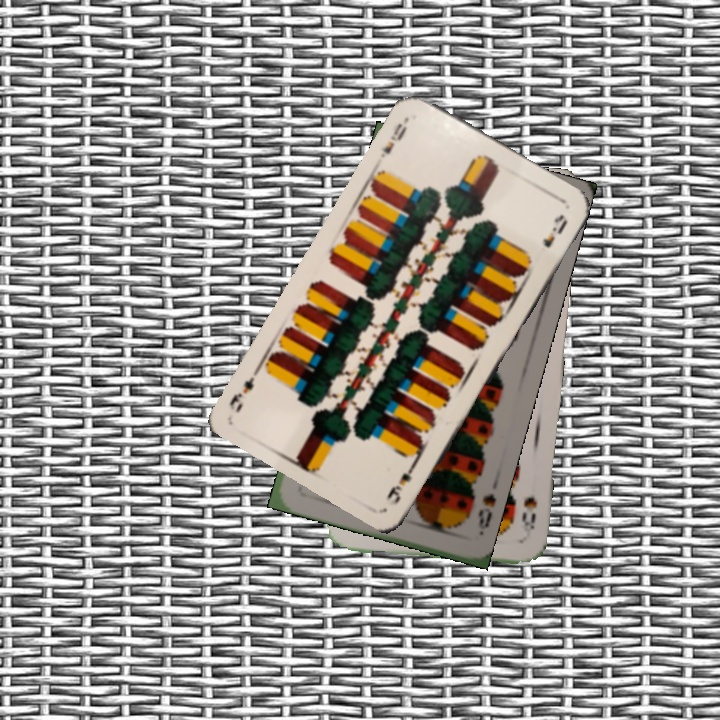E9: (382, 455, 420, 508), (376, 119, 410, 161)
S8: (474, 489, 498, 538), (518, 493, 539, 541)
